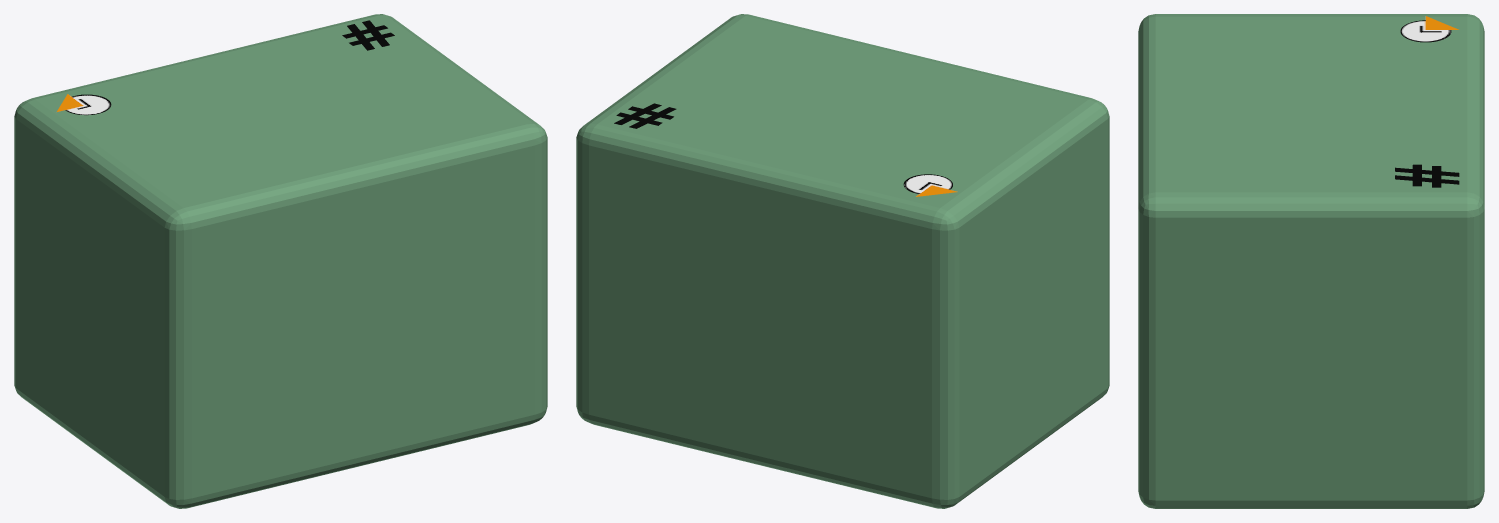
Rendered from StateGRUEN_Hashtag.dae.
3 renders of one model, left to right at view 1: azimuth 30°, elevation 25°; view 2: azimuth 150°, elevation 25°; view 3: azimuth 270°, elevation 25°, orthographic. The views are drawn at different scales.
Visible parts, largest first — view 1: Cube, Plane, Plane_001; view 2: Cube, Plane, Plane_001; view 3: Cube, Plane, Plane_001.
Part boxes in pixels (<box>): Cube: <box>14,14,547,508</box>; Plane: <box>57,94,111,115</box>; Plane_001: <box>342,20,394,50</box>; Cube: <box>576,14,1109,508</box>; Plane: <box>903,174,957,196</box>; Plane_001: <box>614,103,676,128</box>; Cube: <box>1138,14,1484,508</box>; Plane: <box>1400,16,1458,42</box>; Plane_001: <box>1395,164,1459,187</box>.
Size of the model in its own units: 2 by 1.5 by 1.51.
Materials: 3 (2 with a texture image).
